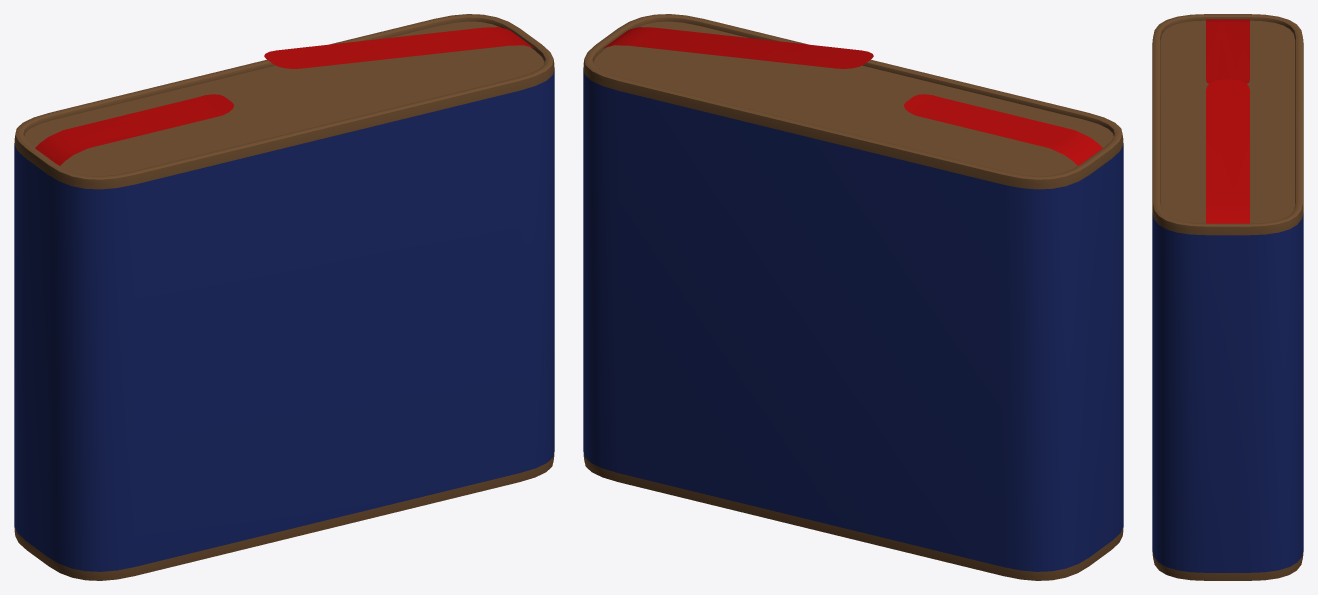
File: battery007.fbx
3 renders of one model, left to right at view 1: azimuth 30°, elevation 25°; view 2: azimuth 150°, elevation 25°; view 3: azimuth 270°, elevation 25°, orthographic. The views are drawn at different scales.
Visible parts, largest first — view 1: battery007_LOD0; view 2: battery007_LOD0; view 3: battery007_LOD0.
Part boxes in pixels (<box>): battery007_LOD0: <box>14,14,554,580</box>; battery007_LOD0: <box>583,14,1123,580</box>; battery007_LOD0: <box>1152,14,1303,580</box>.
Size of the model in its own units: 3.54 by 3.02 by 1.06.
